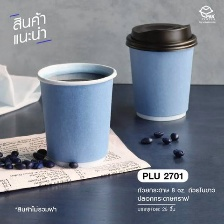paper_cup: (33, 59, 120, 173), (121, 18, 200, 126)
